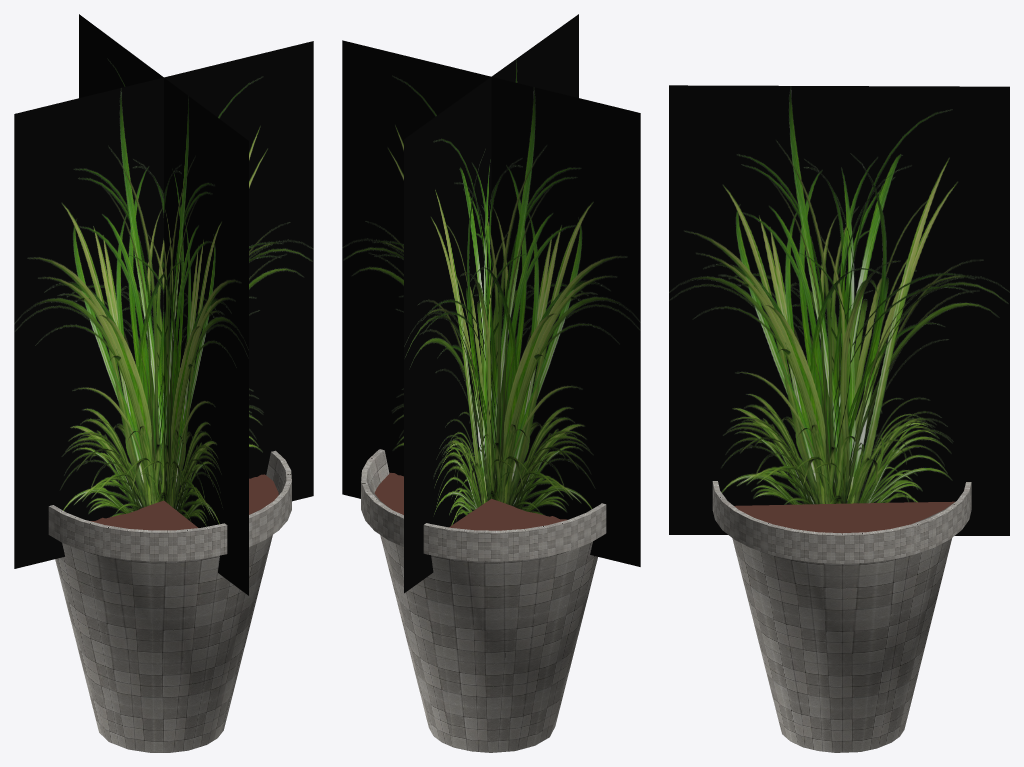
File: pot.glb
3 views of the same model, side by side, from view 1: azimuth 30°, elevation 25°; view 2: azimuth 150°, elevation 25°; view 3: azimuth 270°, elevation 25° (orthographic).
Parts seen in each view (by area): view 1: farm05, Cylinder.001; view 2: farm05, Cylinder.001; view 3: farm05, Cylinder.001.
Part boxes in pixels (bbox=[...]): farm05: bbox=[14, 14, 313, 595]; Cylinder.001: bbox=[48, 450, 291, 752]; farm05: bbox=[342, 14, 640, 593]; Cylinder.001: bbox=[361, 449, 606, 752]; farm05: bbox=[669, 85, 1009, 535]; Cylinder.001: bbox=[712, 481, 971, 752].
Bounding box in the file's own units: 2.52 × 5.22 × 2.52.
Materials: 3 (2 with a texture image).
